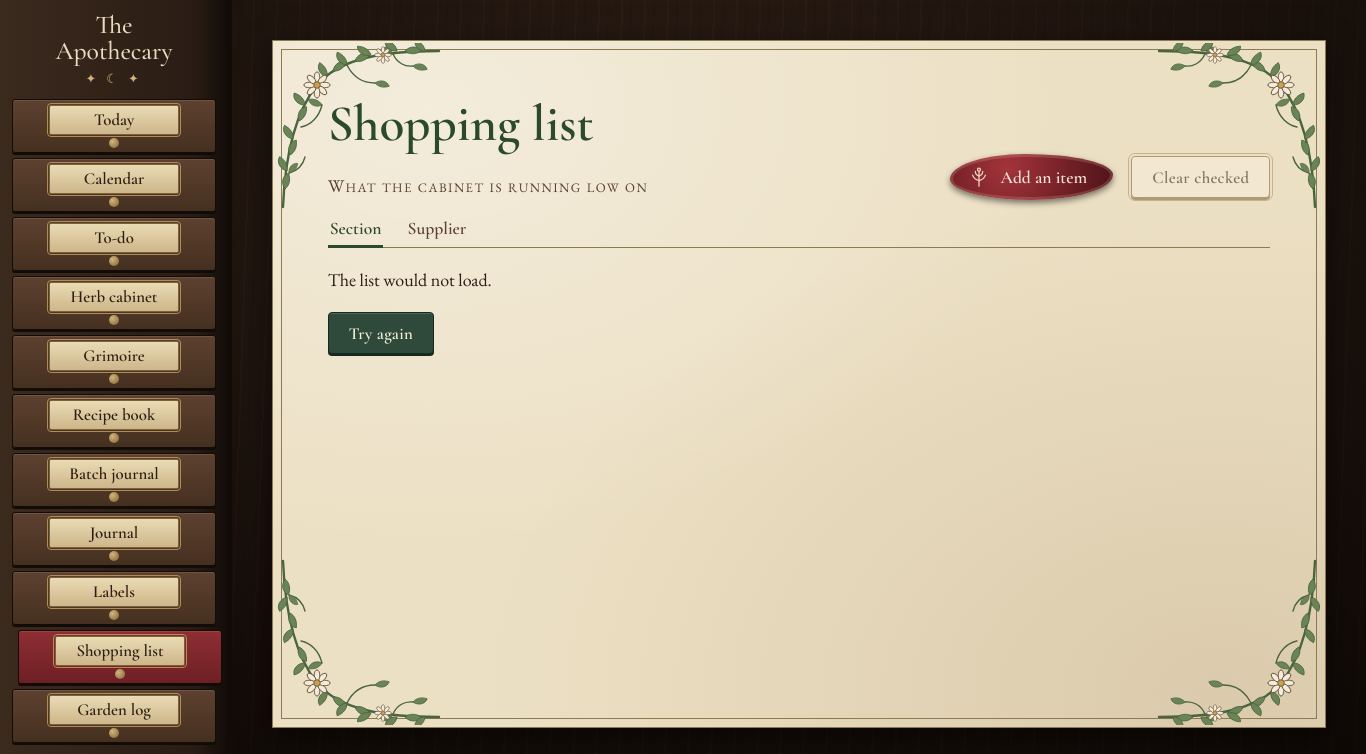
Test: shows a failed load with Try again
expect the message reads "The list would not load.": met, box [328, 268, 492, 291]
Step 1. Click the button "Try again" → click(381, 333), box [328, 312, 434, 354]
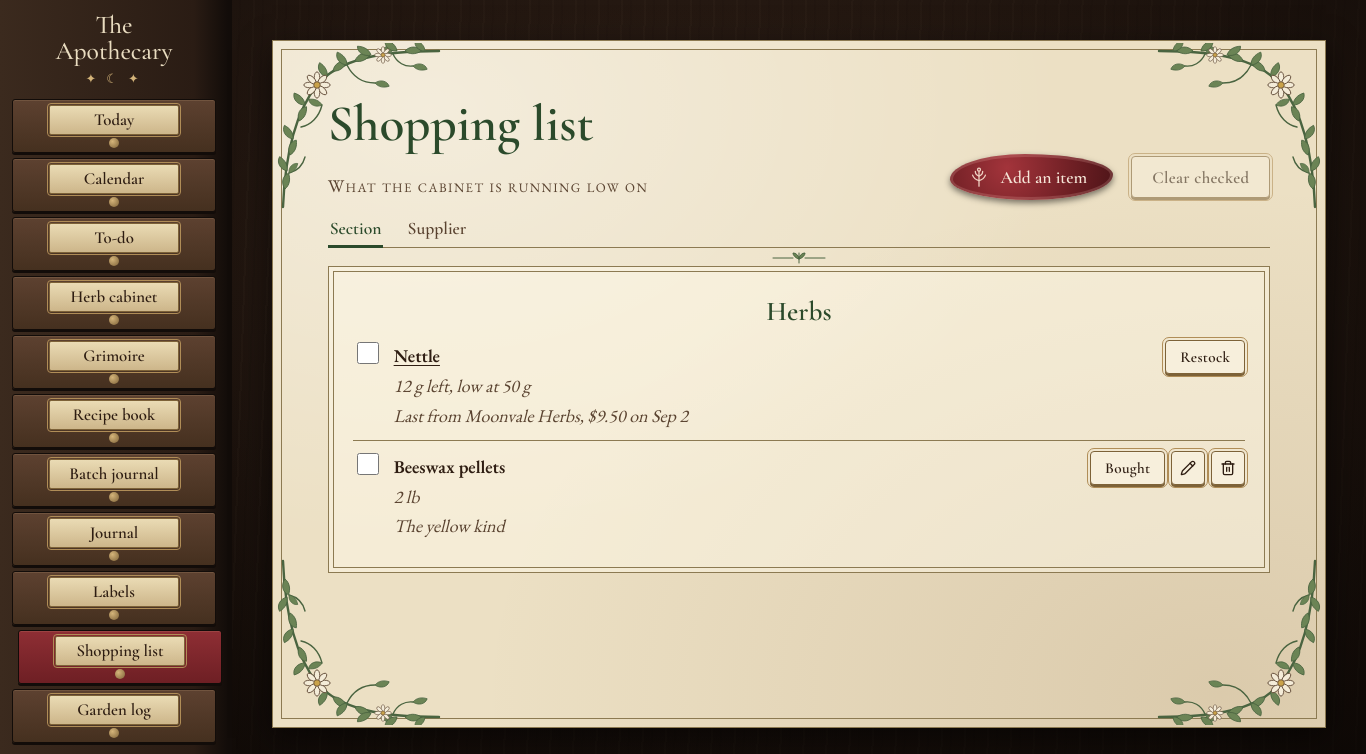
expect the checkbox named "Nettle" is shown: met, box [357, 342, 379, 364]
